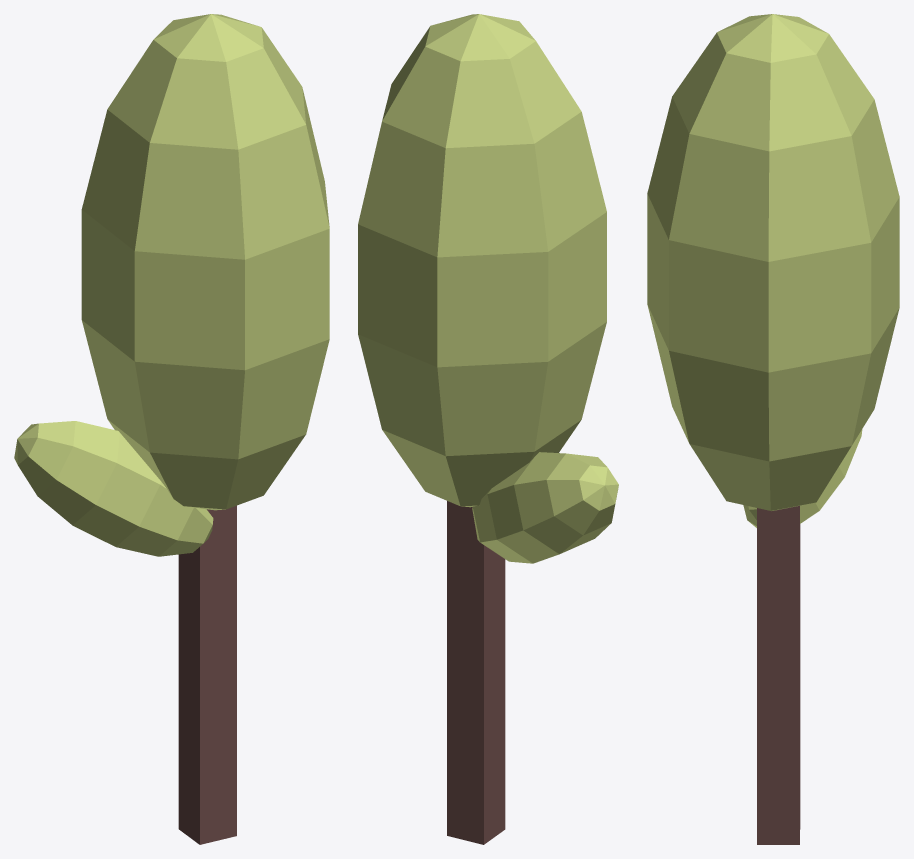
File: tree_thin.glb
3 renders of one model, left to right at view 1: azimuth 30°, elevation 25°; view 2: azimuth 150°, elevation 25°; view 3: azimuth 270°, elevation 25°, orthographic.
Parts seen in each view (by area): view 1: LongTree.001_29; view 2: LongTree.001_29; view 3: LongTree.001_29.
Boxes of the visible parts, bbox=[...] form: LongTree.001_29: bbox=[14, 14, 329, 844]; LongTree.001_29: bbox=[358, 14, 618, 844]; LongTree.001_29: bbox=[647, 14, 899, 844].
Size of the model in its own units: 2.11 by 5.97 by 1.66.
